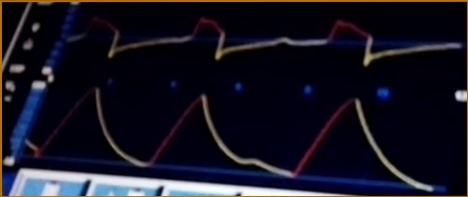Ineffective_effort Flow: (64, 10, 458, 68)
Ineffective_effort Volume: (23, 87, 435, 189)
